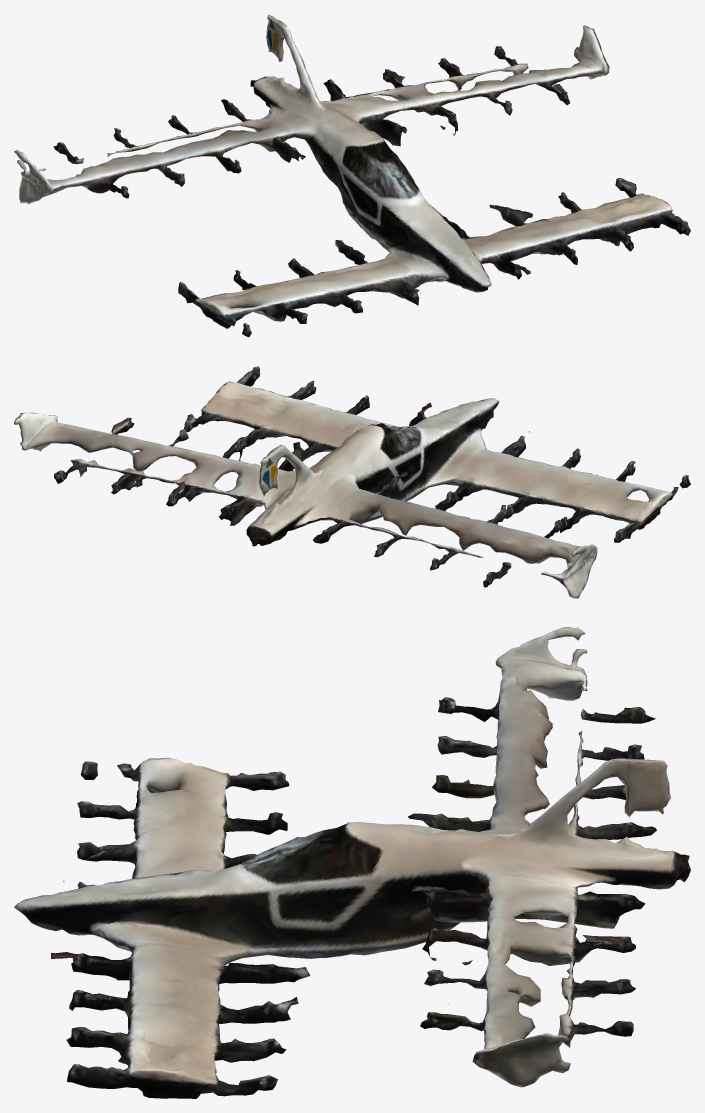
File: teTra-Mk5-miniature-model.obj
3 views of the same model, one above another, from view 1: azimuth 30°, elevation 25°; view 2: azimuth 150°, elevation 25°; view 3: azimuth 270°, elevation 25° (orthographic). The views are drawn at different scales.
Parts seen in each view (by area): view 1: 658e53b8-3193-42b5-a1f6-eb5f296e962b_0; view 2: 658e53b8-3193-42b5-a1f6-eb5f296e962b_0; view 3: 658e53b8-3193-42b5-a1f6-eb5f296e962b_0.
Boxes of the visible parts, x1=… form: 658e53b8-3193-42b5-a1f6-eb5f296e962b_0: x1=14, y1=14, x2=690, y2=337; 658e53b8-3193-42b5-a1f6-eb5f296e962b_0: x1=14, y1=366, x2=690, y2=598; 658e53b8-3193-42b5-a1f6-eb5f296e962b_0: x1=14, y1=627, x2=690, y2=1098.
Bounding box in the file's own units: 2.1 × 0.4702 × 1.51.
